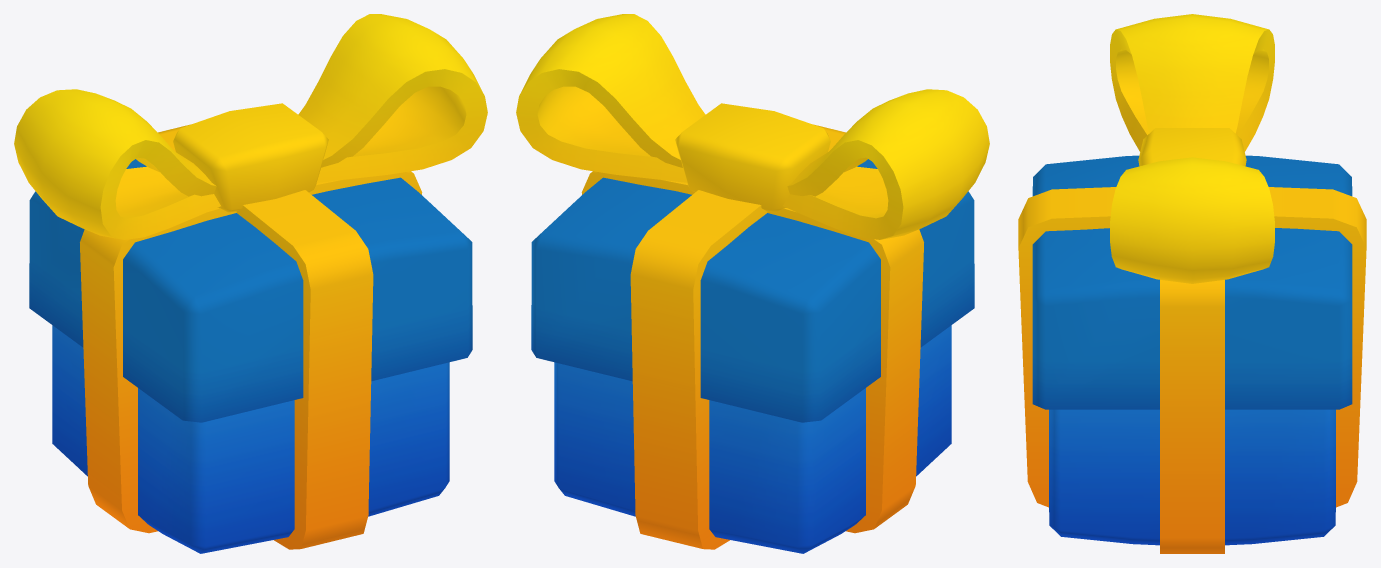
3 renders of one model, left to right at view 1: azimuth 30°, elevation 25°; view 2: azimuth 150°, elevation 25°; view 3: azimuth 270°, elevation 25°, orthographic. The views are drawn at different scales.
Parts seen in each view (by area): view 1: Box_01; view 2: Box_01; view 3: Box_01.
Boxes of the visible parts, x1,y1,x2,y2 form: Box_01: [14, 14, 487, 553]; Box_01: [516, 14, 989, 553]; Box_01: [1018, 14, 1366, 553].
Bounding box in the file's own units: 1.27 × 1.26 × 0.9571.
Materials: 1 (1 with a texture image).
